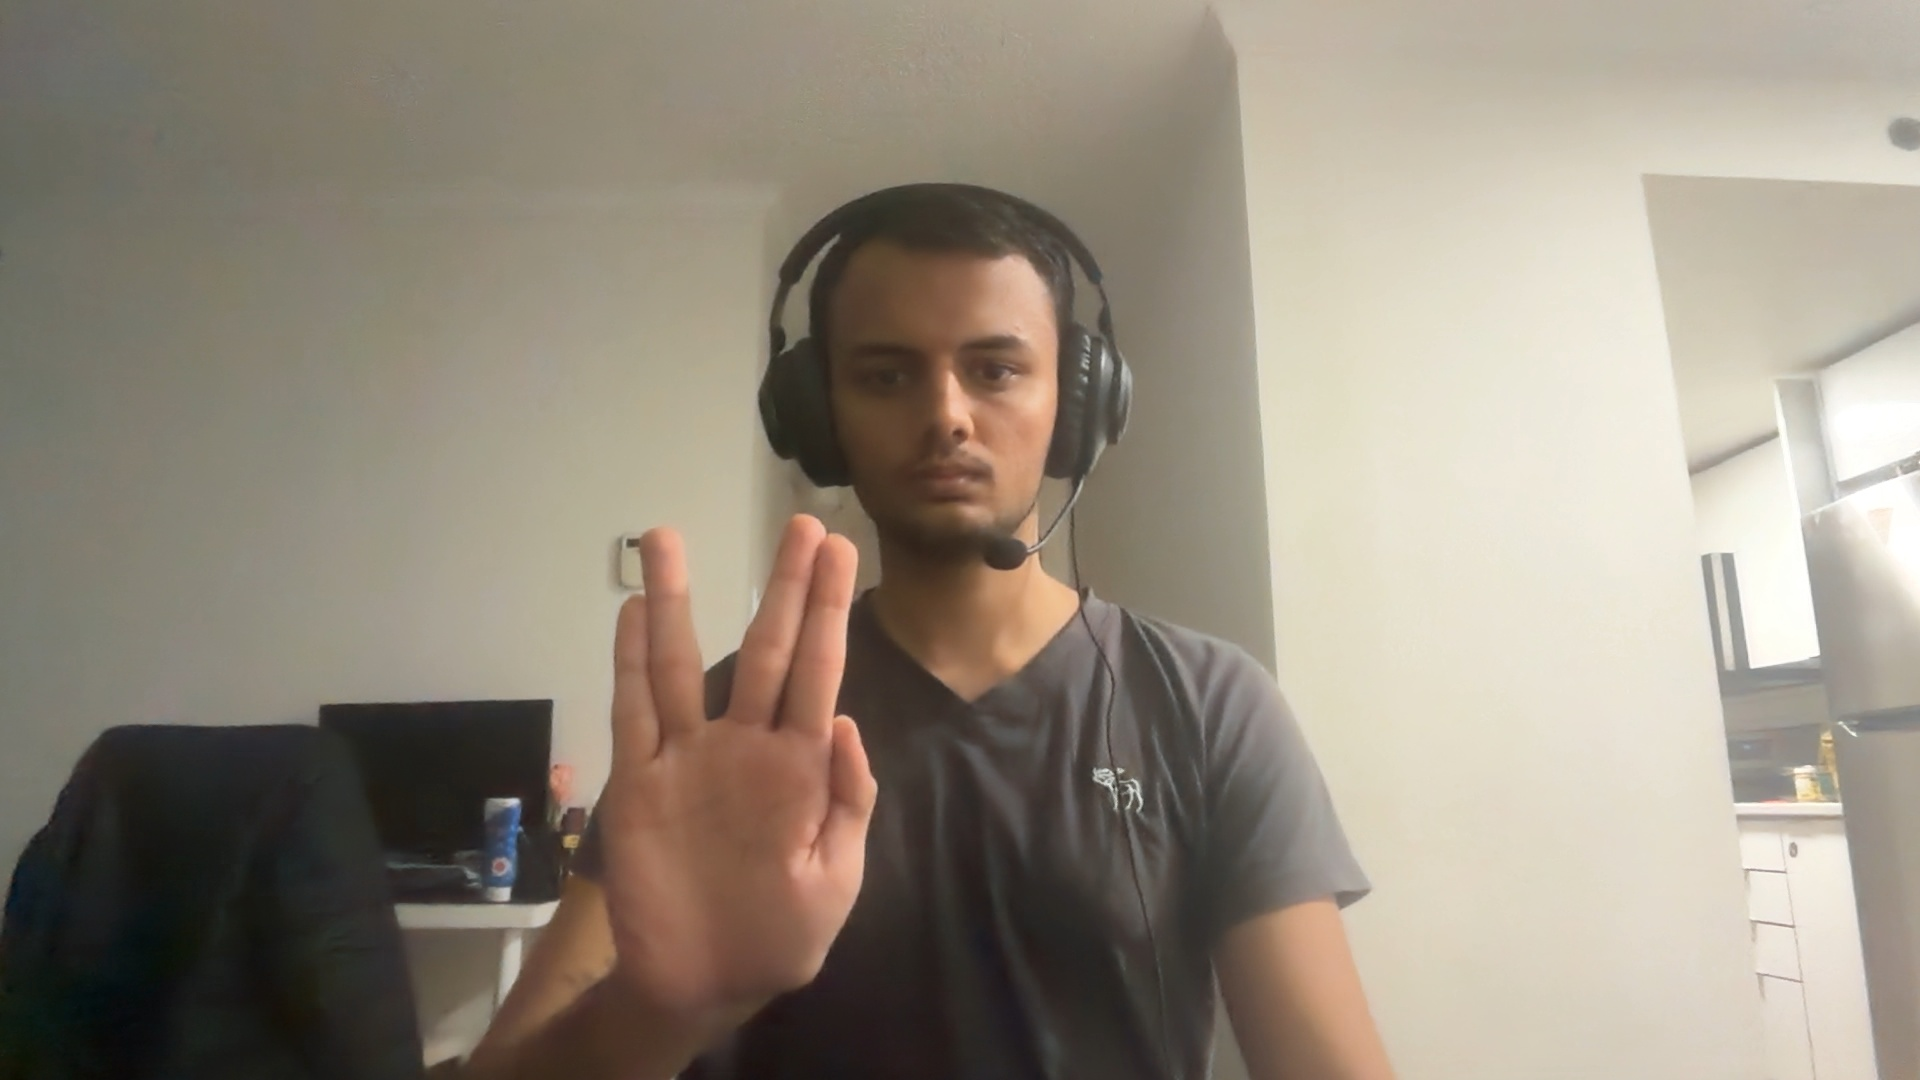livelong: (603, 514, 880, 998)
